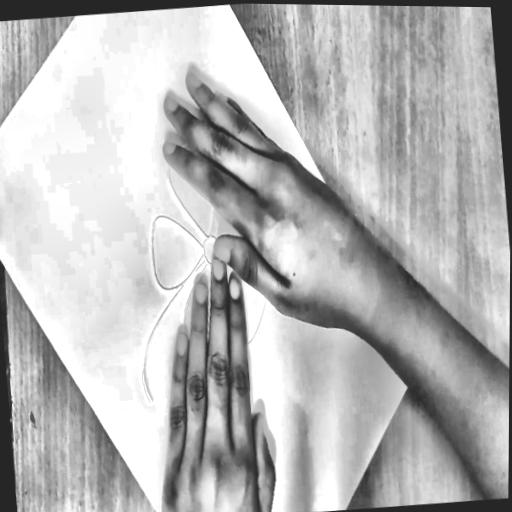flower: (33, 92, 362, 478)
top_right: (412, 362, 421, 377)
